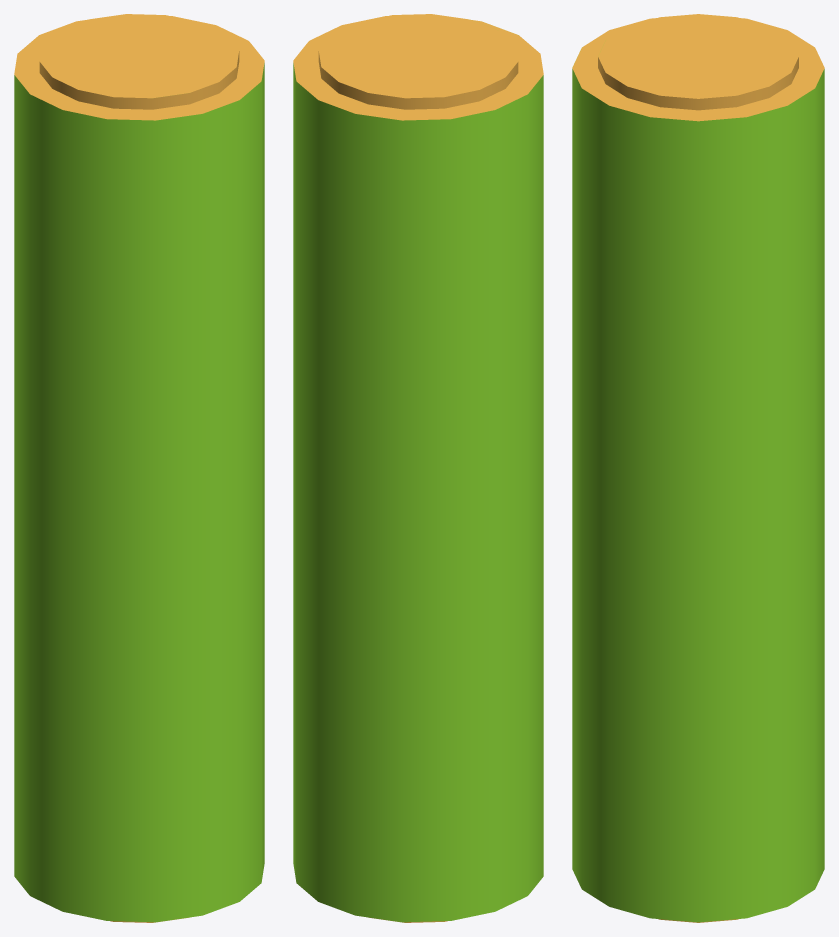
File: battery old.fbx
The picture shows the model from 3 angles, left to right: view 1: azimuth 30°, elevation 25°; view 2: azimuth 150°, elevation 25°; view 3: azimuth 270°, elevation 25°; orthographic projection.
Visible parts, largest first — view 1: bat.001; view 2: bat.001; view 3: bat.001.
Boxes of the visible parts, bbox=[...] form: bat.001: bbox=[14, 14, 264, 922]; bat.001: bbox=[293, 14, 543, 922]; bat.001: bbox=[572, 14, 824, 922].
Size of the model in its own units: 2 by 7.2 by 2.
Materials: 1 (1 with a texture image).
